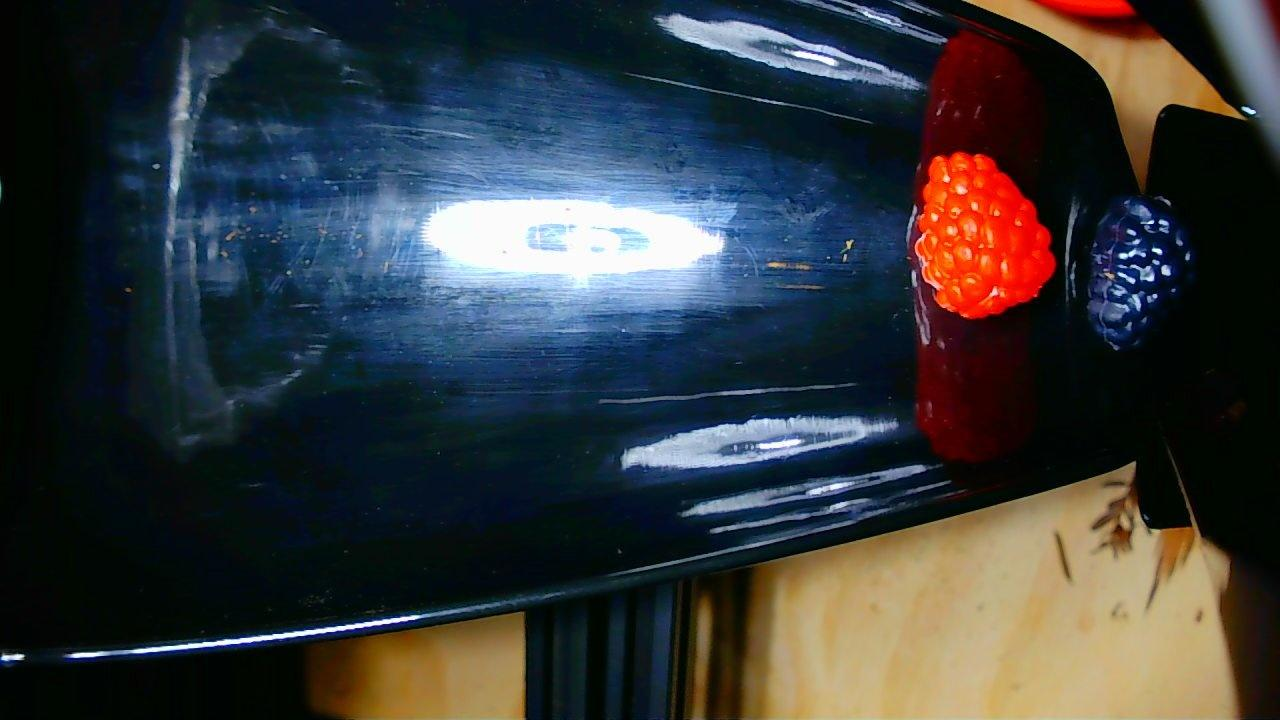berry: (913, 152, 1056, 318), (1088, 195, 1195, 348)
